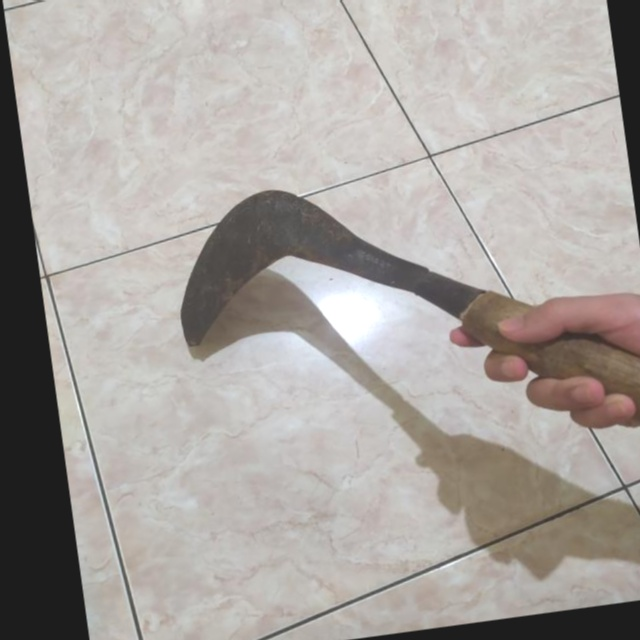Sharp-Object: (113, 136, 640, 525)
